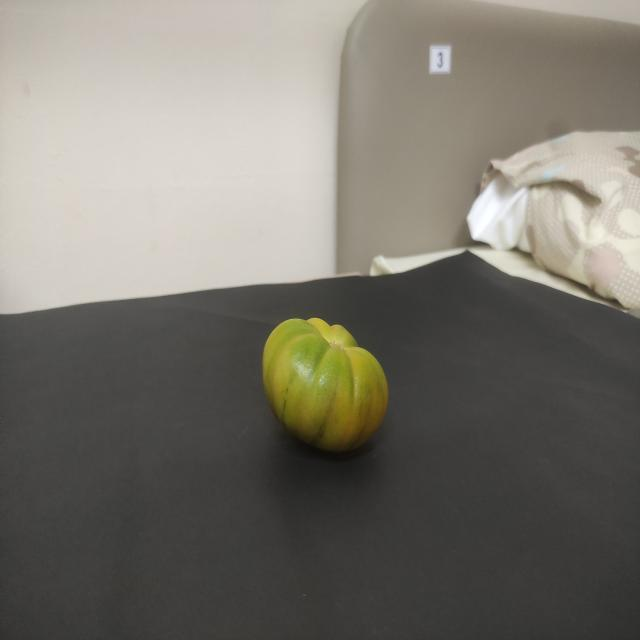yesil: (255, 295, 400, 459)
